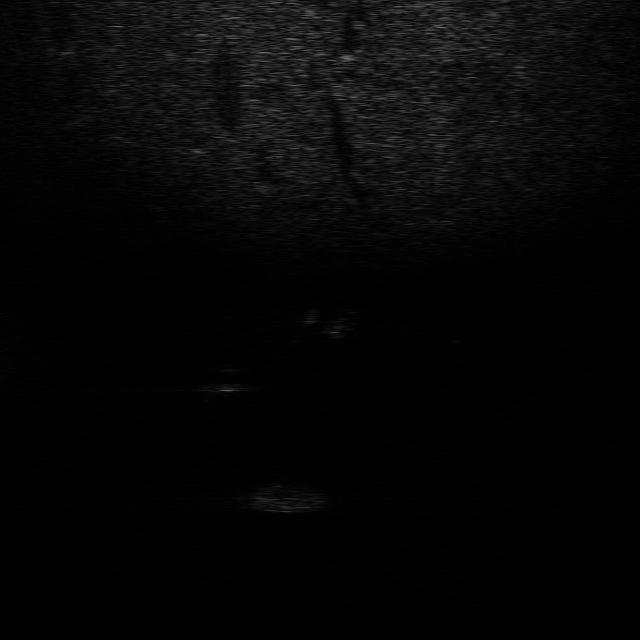ball: (196, 365, 259, 398)
circle cage: (238, 475, 330, 515)
human body: (290, 303, 362, 340)
